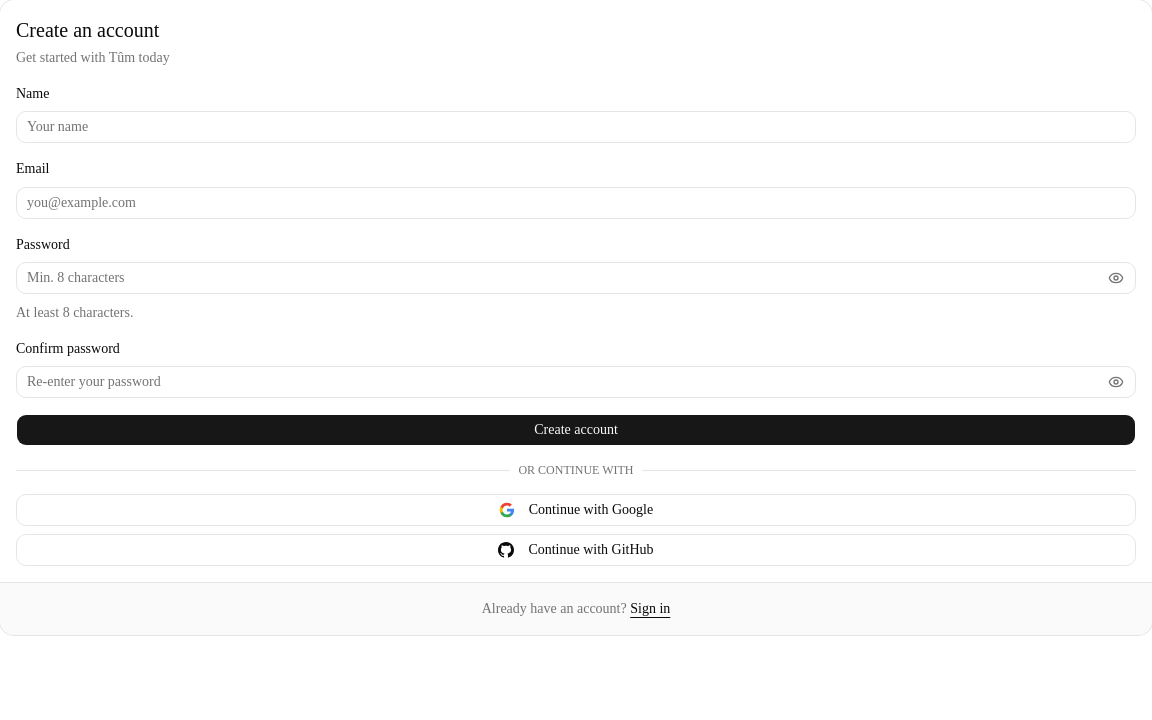
it: SignupForm › shows validation errors when submitting empty form
Click the button "Create account" at [576, 430], box [16,414,1136,446]
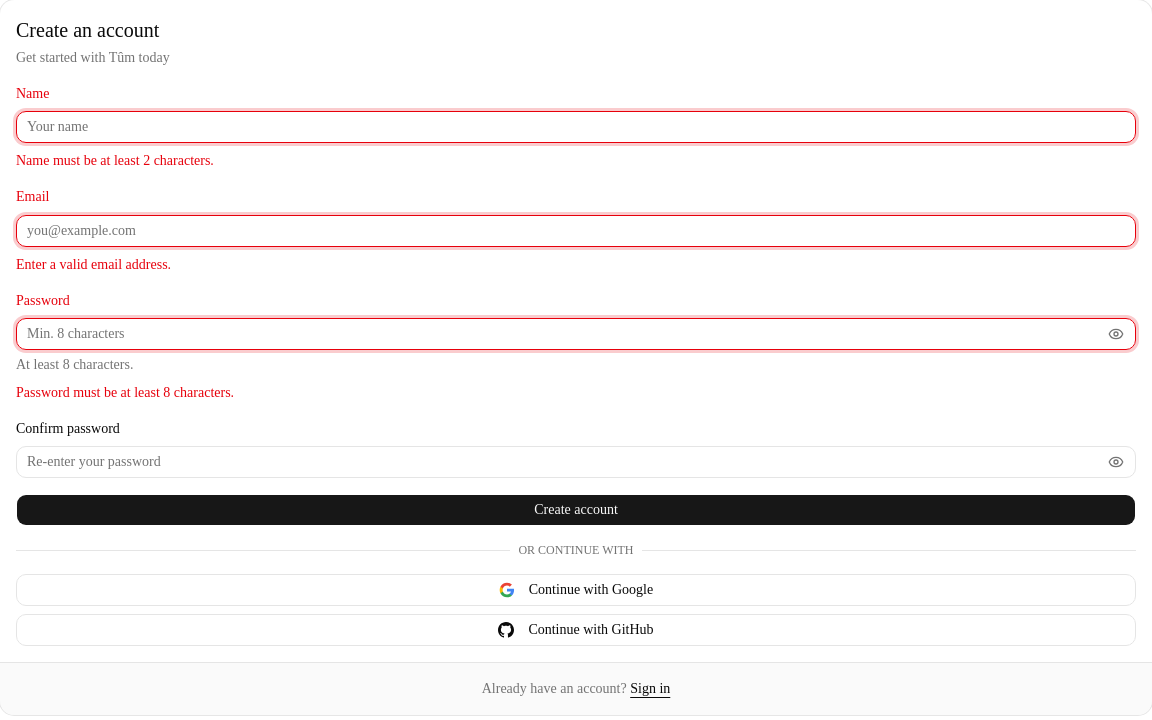
Expected: the text "Name must be at least 2 characters." is shown, [16,153,214,168]
